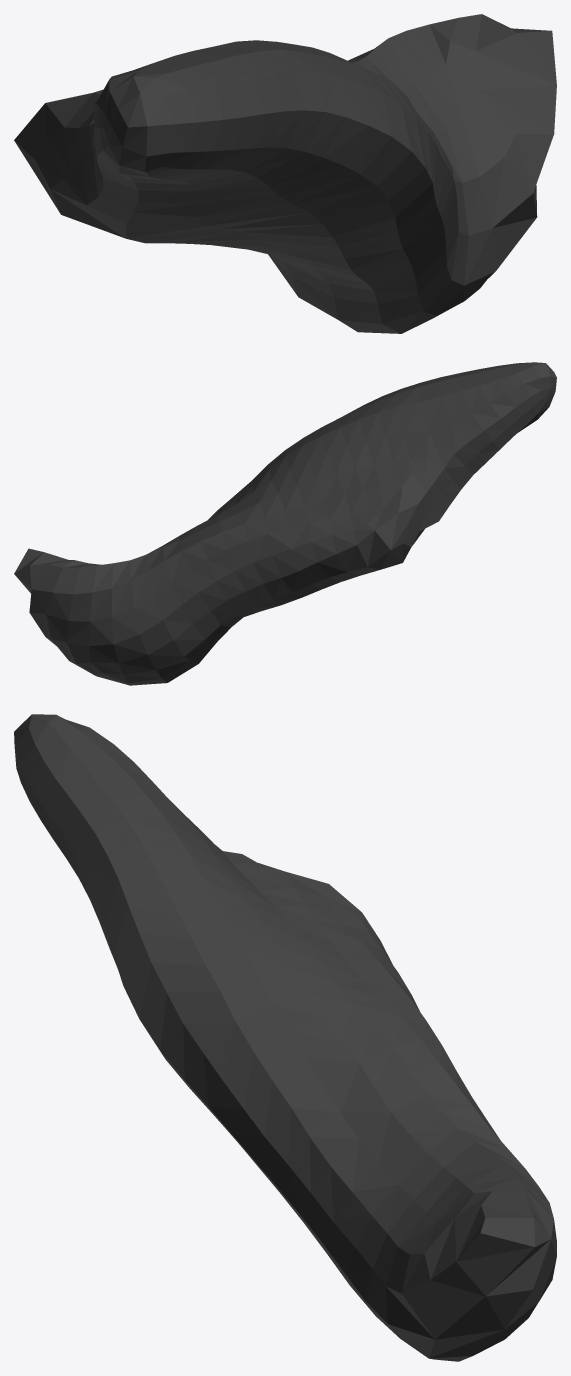
Rendered from pterygoid_lat.glb.
3 renders of one model, top to bottom at view 1: azimuth 30°, elevation 25°; view 2: azimuth 150°, elevation 25°; view 3: azimuth 270°, elevation 25°, orthographic. The views are drawn at different scales.
Visible parts, largest first — view 1: pterygoid_lat; view 2: pterygoid_lat; view 3: pterygoid_lat.
Boxes of the visible parts, x1,y1,x2,y2 form: pterygoid_lat: [14, 14, 556, 333]; pterygoid_lat: [14, 362, 556, 685]; pterygoid_lat: [14, 714, 556, 1361].
Bounding box in the file's own units: 0.3705 × 0.2708 × 0.3072.
1 material, 1 textured.
